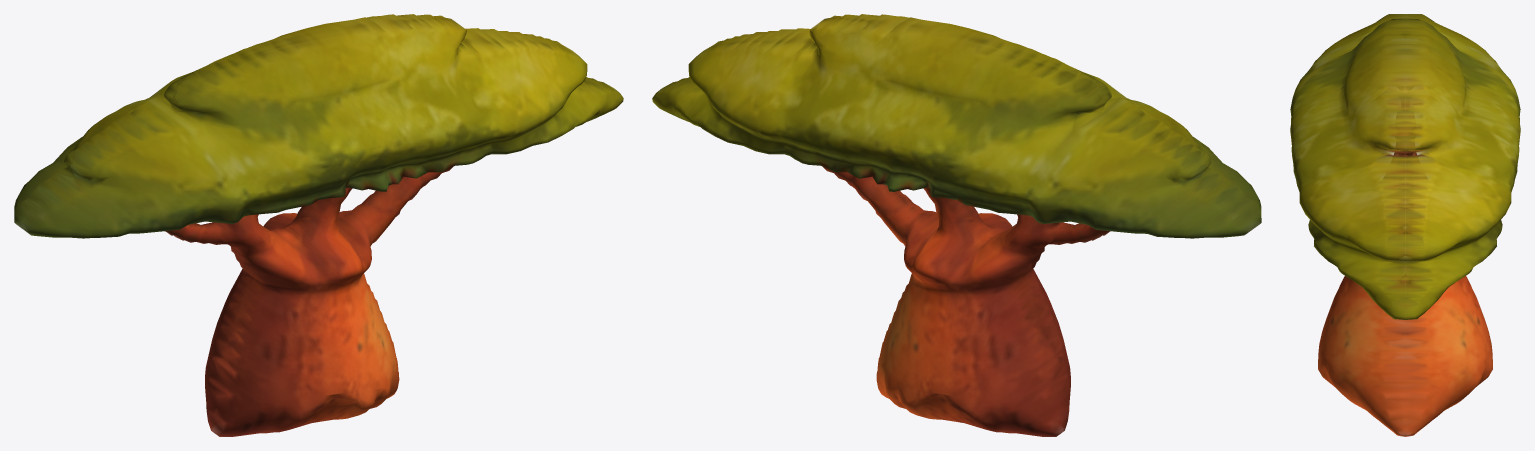
Rendered from 03_baobab_trees_r02_c00.glb.
3 views of the same model, side by side, from view 1: azimuth 30°, elevation 25°; view 2: azimuth 150°, elevation 25°; view 3: azimuth 270°, elevation 25° (orthographic). The views are drawn at different scales.
Visible parts, largest first — view 1: 03_baobab_trees_r02_c00; view 2: 03_baobab_trees_r02_c00; view 3: 03_baobab_trees_r02_c00.
Boxes of the visible parts, x1,y1,x2,y2 form: 03_baobab_trees_r02_c00: (14, 14, 623, 436); 03_baobab_trees_r02_c00: (652, 14, 1261, 436); 03_baobab_trees_r02_c00: (1290, 14, 1520, 436).
Bounding box in the file's own units: 3.01 × 1.79 × 1.09.
Materials: 1 (1 with a texture image).
